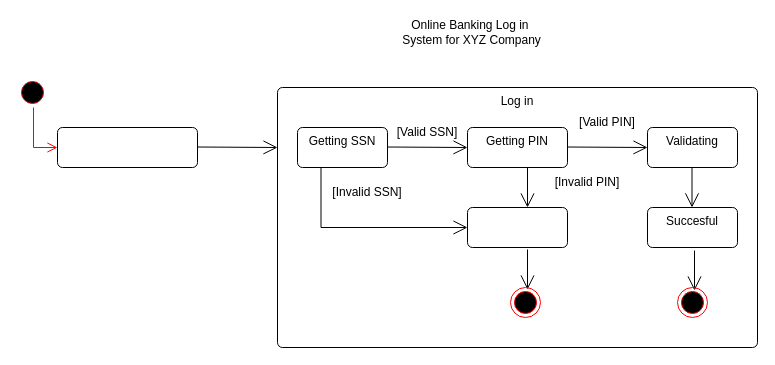
This 775x365 diagram has some shape labels left out. Here are the shapes that lost their labels. From the top down, the box of each, then its label:
(56, 126, 198, 168): Idle
(466, 206, 568, 248): Rejecting
